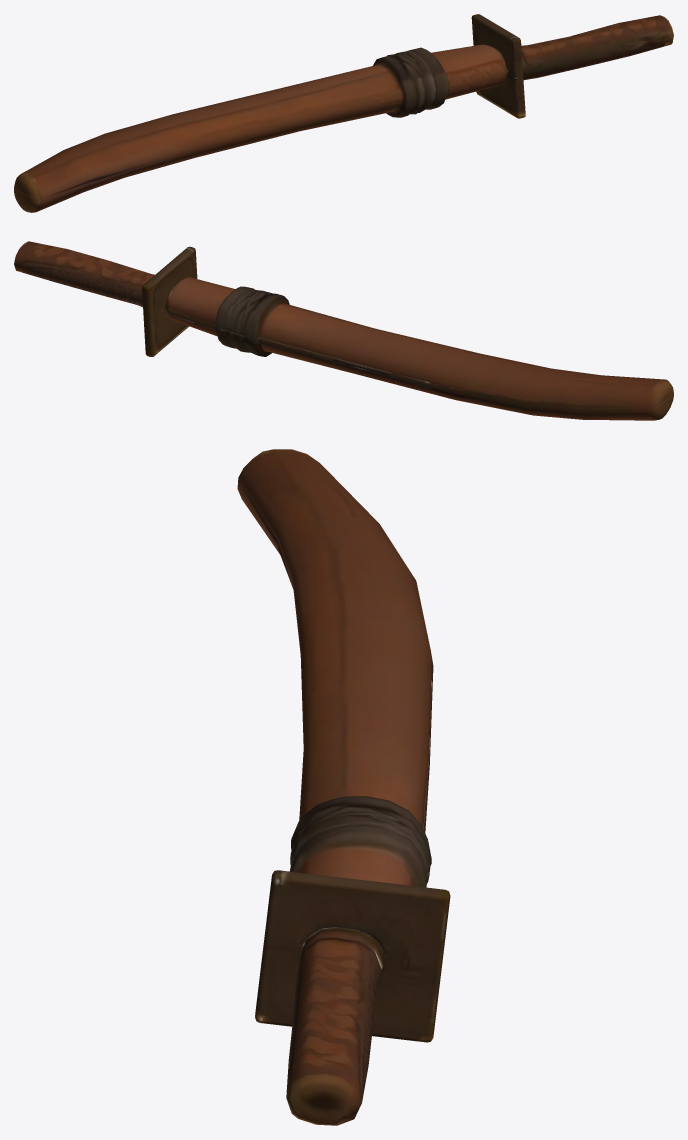
Rendered from Katana.fbx.
3 views of the same model, one above another, from view 1: azimuth 30°, elevation 25°; view 2: azimuth 150°, elevation 25°; view 3: azimuth 270°, elevation 25° (orthographic). The views are drawn at different scales.
Parts seen in each view (by area): view 1: Katana, Blade; view 2: Katana, Blade; view 3: Katana, Blade.
Part boxes in pixels (box(x1,y1,x2,y2)): Katana: box(14, 44, 506, 212); Blade: box(471, 14, 673, 118); Katana: box(165, 277, 673, 420); Blade: box(14, 241, 197, 356); Katana: box(237, 449, 433, 887); Blade: box(255, 870, 450, 1125).
Bounding box in the file's own units: 148 × 18.38 × 21.45.
